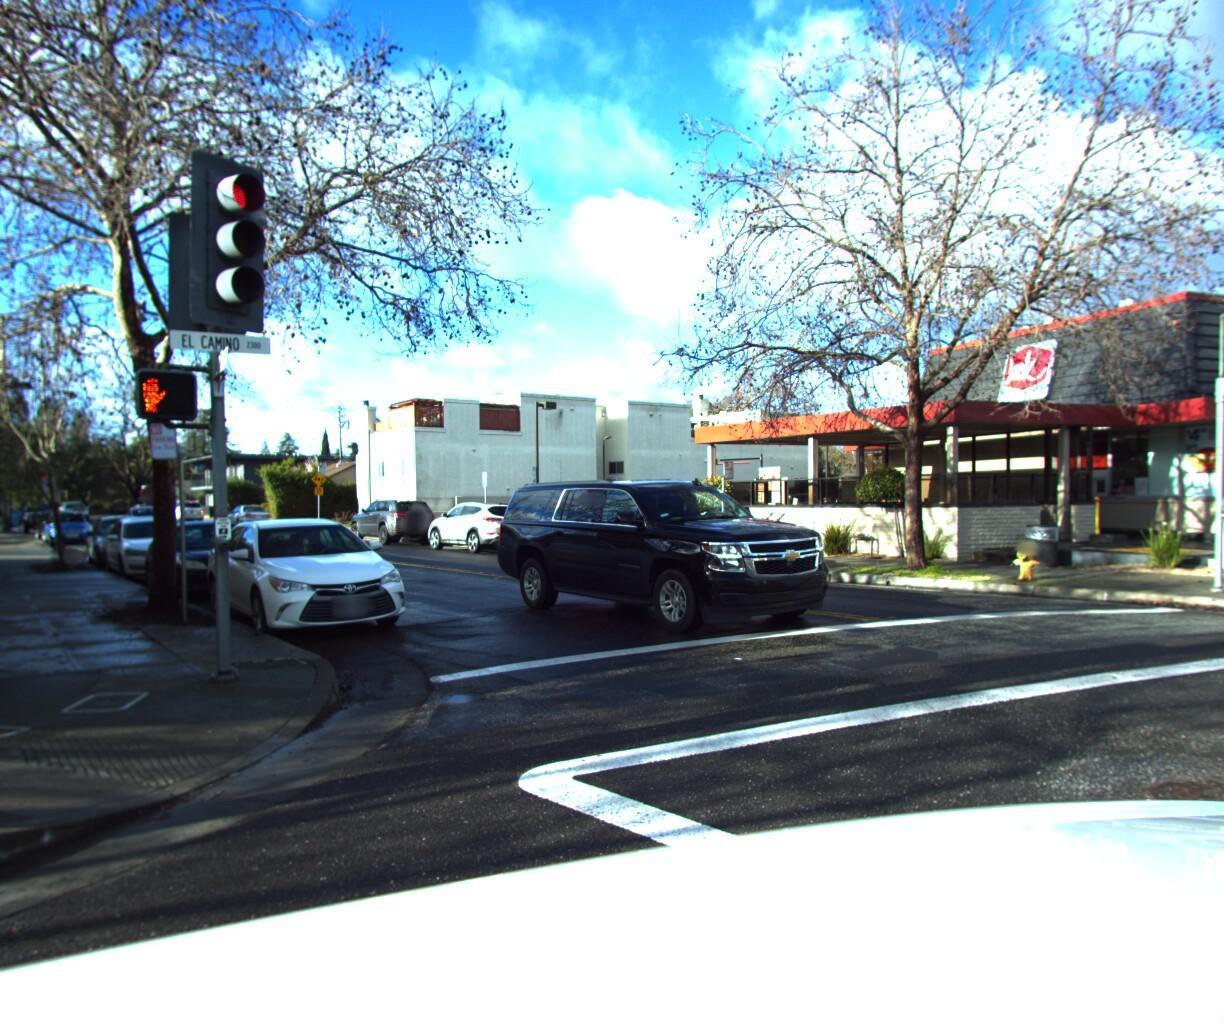car: (473, 476, 866, 655), (191, 514, 425, 659), (135, 516, 287, 613), (90, 509, 224, 587), (427, 498, 539, 554), (78, 513, 171, 570), (345, 495, 448, 543), (39, 508, 100, 546), (224, 500, 276, 527), (22, 505, 66, 532), (167, 499, 207, 520)
